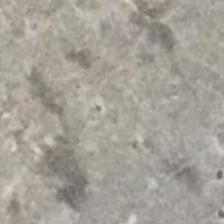Non_Crack: (25, 24, 210, 196)
